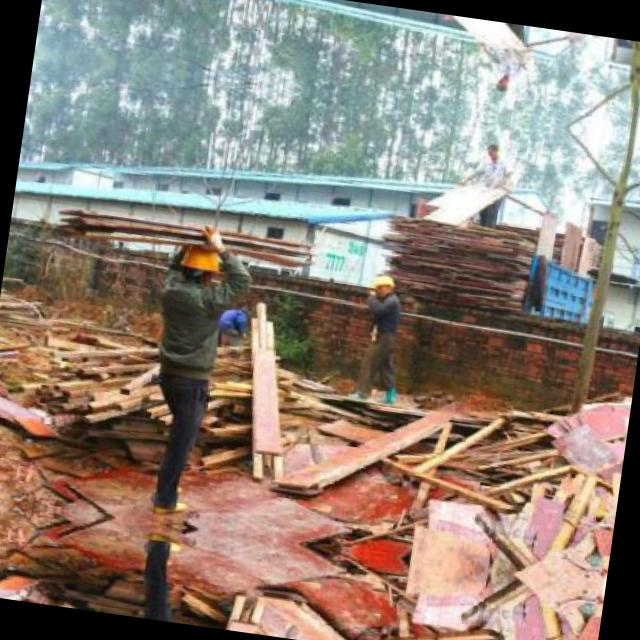helmet: (178, 238, 224, 288), (370, 270, 398, 300)
